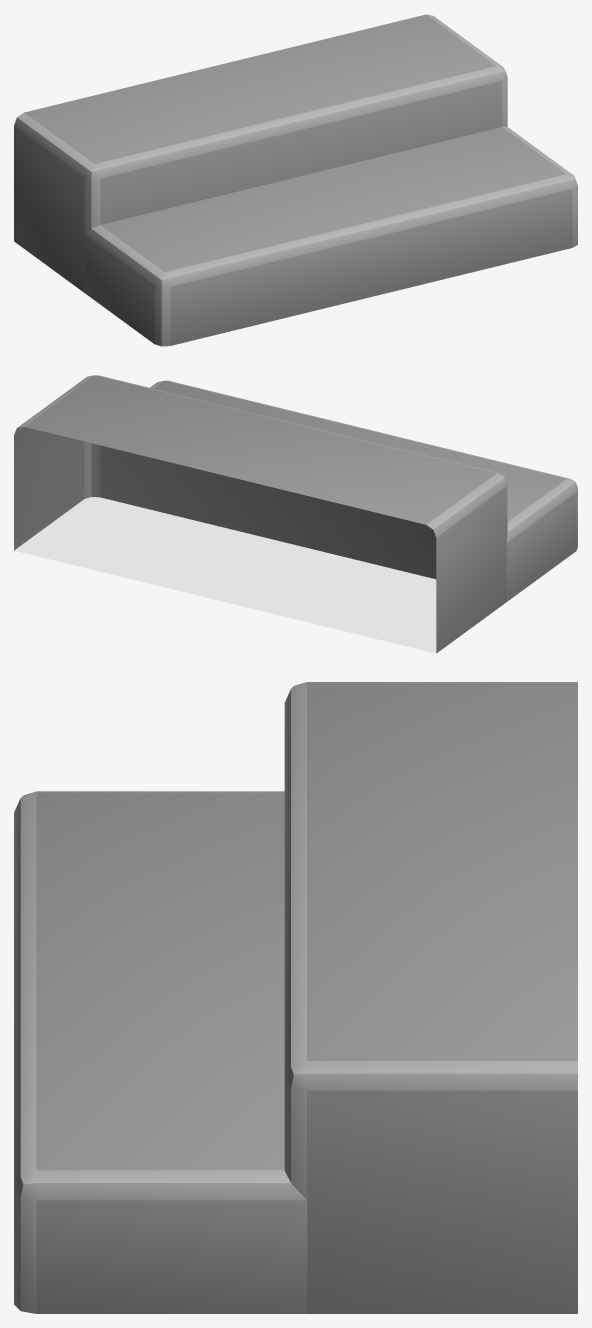
The model's file is Entrance-Stairs.fbx.
The picture shows the model from 3 angles, top to bottom: view 1: azimuth 30°, elevation 25°; view 2: azimuth 150°, elevation 25°; view 3: azimuth 270°, elevation 25°; orthographic projection. The views are drawn at different scales.
Parts seen in each view (by area): view 1: EntranceStairs; view 2: EntranceStairs; view 3: EntranceStairs.
Boxes of the visible parts, <box> form: EntranceStairs: <box>14,14,577,346</box>; EntranceStairs: <box>14,375,577,653</box>; EntranceStairs: <box>14,682,577,1313</box>.
Size of the model in its own units: 315 by 189 by 89.97.
Materials: 1 (1 with a texture image).
